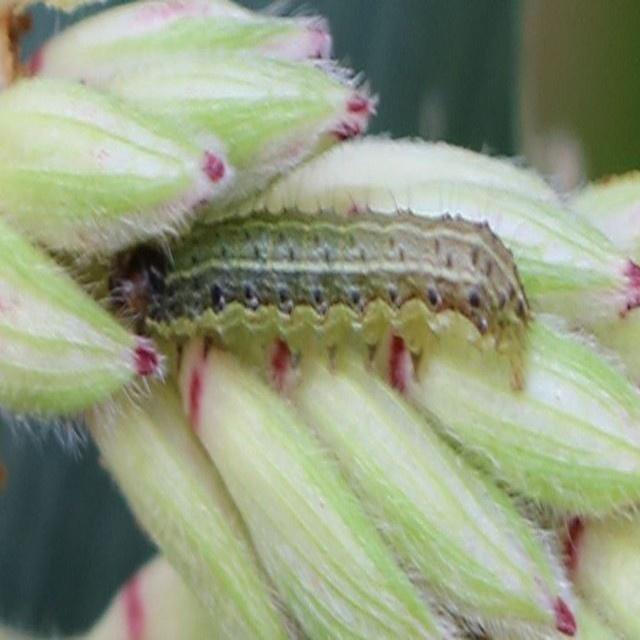gusano_cogollero: (177, 208, 535, 340)
